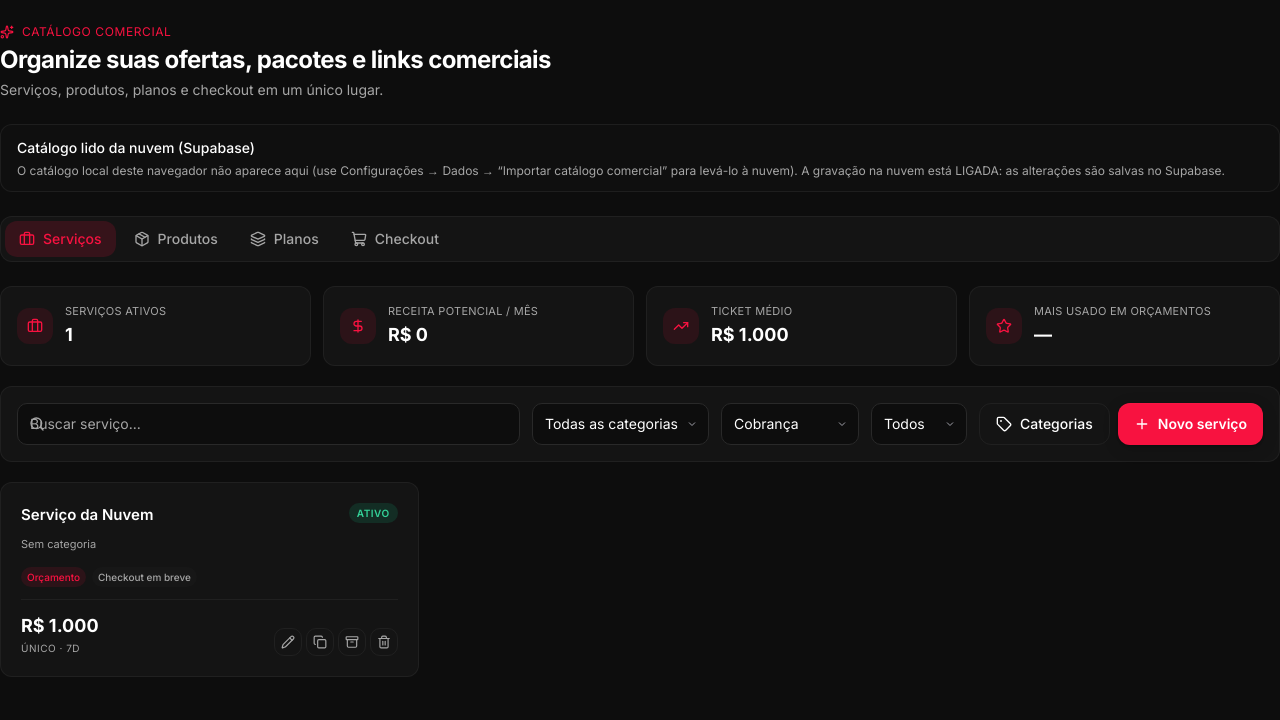
Scenario: Catálogo · fonte NUVEM › escrita LIGADA: grava na nuvem (uuid), mostra 'Serviço criado', fecha o modal e a lista ganha o item sem refetch
expect the text "Serviço da Nuvem" is shown: met, box [21,503,153,527]
expect the message shows "gravação na nuvem está LIGADA": met, box [801,163,1225,178]
Click the button "Novo serviço" at (1190,424), box [1118,403,1263,445]
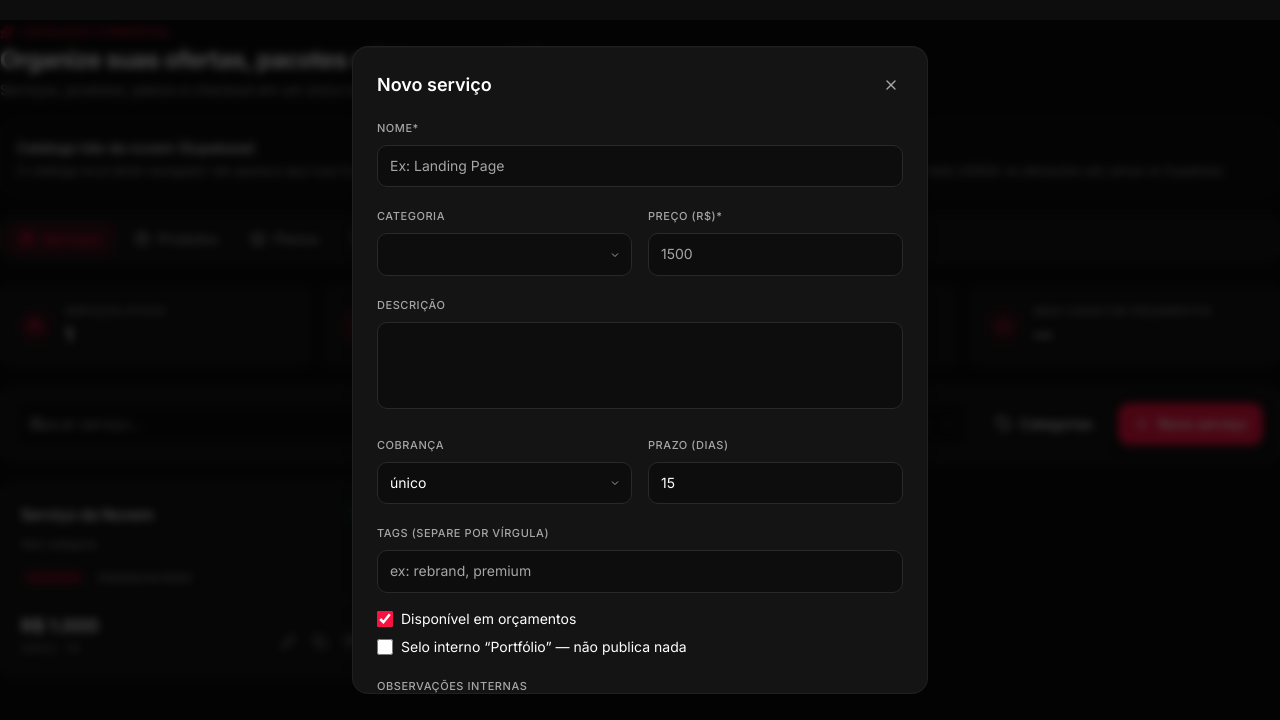
Type "Meu serviço" into the field with placeholder "Ex: Landing Page" at (640,166), box [377,145,903,187]
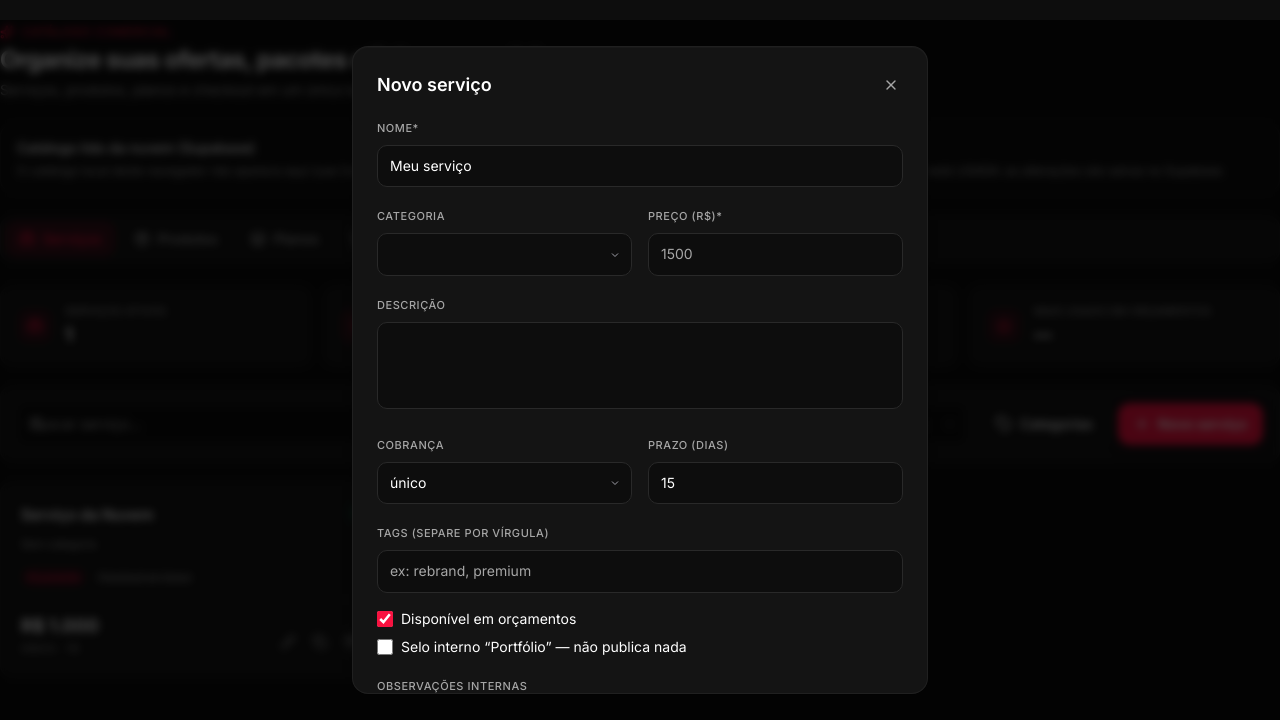
Type "250" into the number field with placeholder "1500" at (776,255), box [648,233,903,276]
(page scrolled)
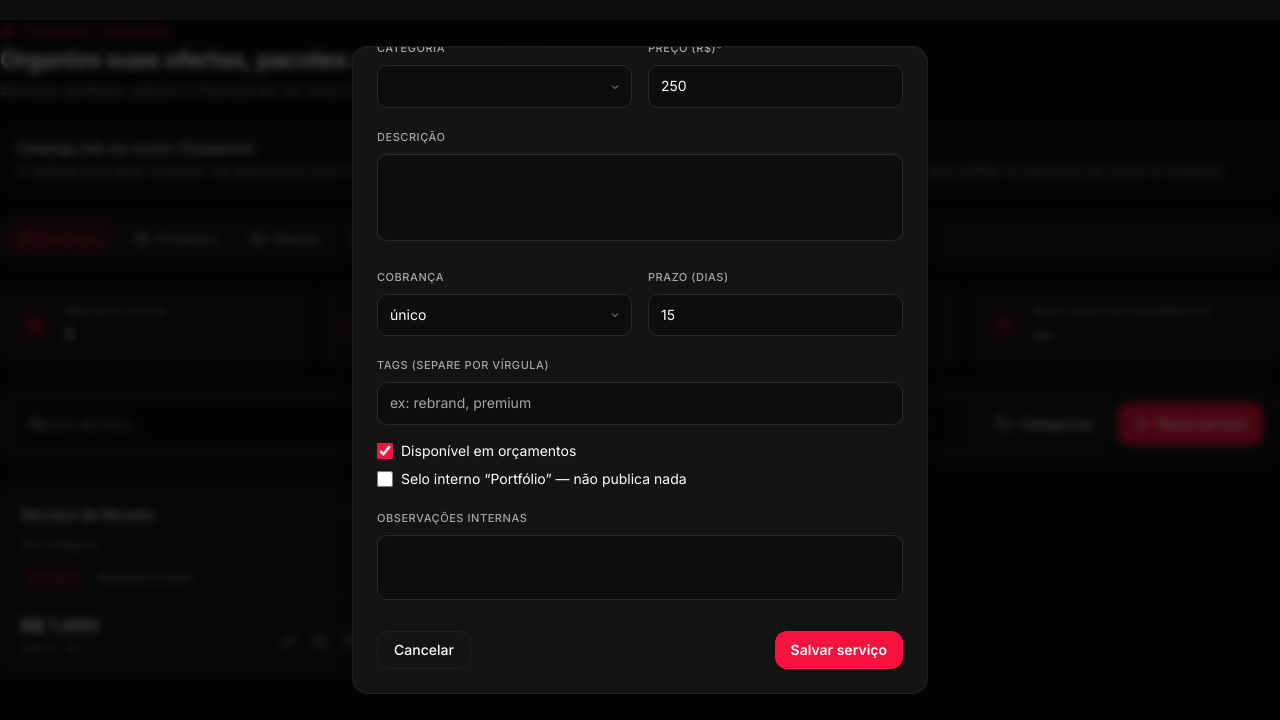
Click the button "Salvar serviço" at (839,650), box [774,630,903,668]
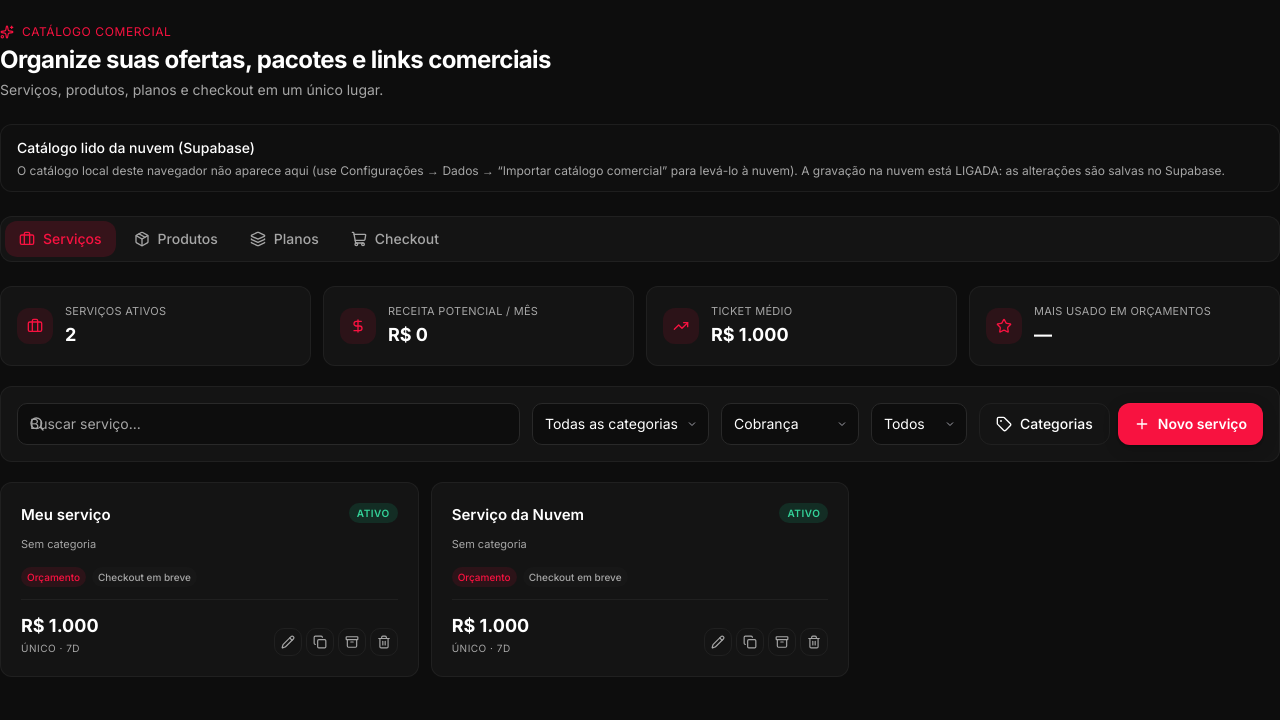
expect the text "Meu serviço" is shown: met, box [21,503,111,527]
expect the button "Salvar serviço" is gone: met
